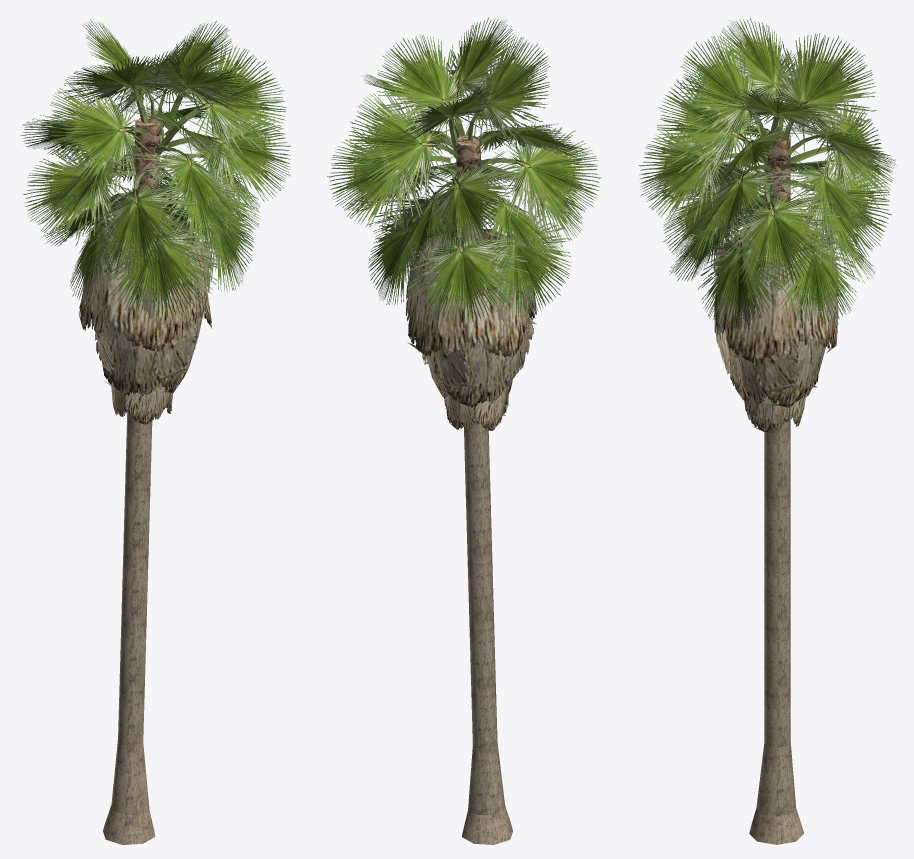
The model's file is Washingtonian_105b.dae.
3 renders of one model, left to right at view 1: azimuth 30°, elevation 25°; view 2: azimuth 150°, elevation 25°; view 3: azimuth 270°, elevation 25°, orthographic. The views are drawn at different scales.
Parts seen in each view (by area): view 1: wash_105_half (×34), BeardPatch20 (×6), wash_trunck, washingtonianHead; view 2: wash_105_half (×30), BeardPatch20 (×7), wash_trunck, washingtonianHead; view 3: wash_105_half (×35), wash_trunck, BeardPatch20 (×5), washingtonianHead.
Boxes of the visible parts, x1,y1,x2,y2 form: wash_105_half (×34): (20,19,290,318); BeardPatch20 (×6): (78,217,212,424); wash_trunck: (103,194,155,844); washingtonianHead: (133,117,160,192); wash_105_half (×30): (327,17,601,324); BeardPatch20 (×7): (405,233,533,430); wash_trunck: (461,215,512,844); washingtonianHead: (456,135,481,212); wash_105_half (×35): (638,17,895,329); wash_trunck: (749,257,803,844); BeardPatch20 (×5): (715,234,838,432); washingtonianHead: (764,131,790,208).
Bounding box in the file's own units: 123 × 116 × 390.
7 materials, 5 textured.
